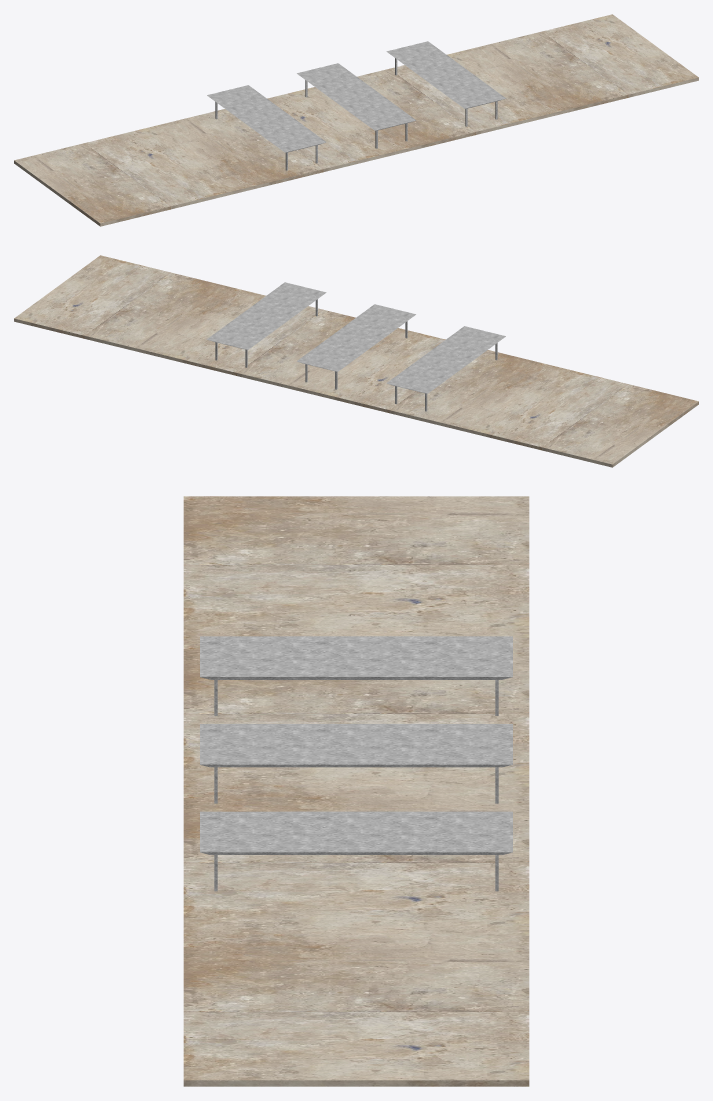
The model's file is exhbt22-opt.glb.
The picture shows the model from 3 angles, top to bottom: view 1: azimuth 30°, elevation 25°; view 2: azimuth 150°, elevation 25°; view 3: azimuth 270°, elevation 25°; orthographic projection. The views are drawn at different scales.
Visible parts, largest first — view 1: . 6, Merged Objects 2; view 2: . 6, Merged Objects 2; view 3: . 6, Merged Objects 2.
Boxes of the visible parts, left/top/right/bottom form: . 6: left=14, top=14, right=698, bottom=226; Merged Objects 2: left=207, top=41, right=505, bottom=170; . 6: left=14, top=255, right=698, bottom=467; Merged Objects 2: left=207, top=282, right=505, bottom=411; . 6: left=183, top=496, right=529, bottom=1086; Merged Objects 2: left=200, top=636, right=512, bottom=891.
Size of the model in its own units: 40 by 1.61 by 10.
Materials: 2 (2 with a texture image).
